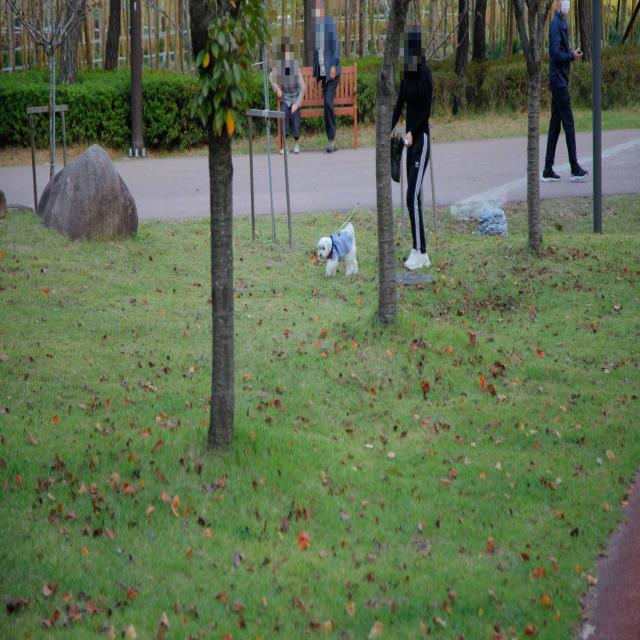Leashed_Dog: (318, 130, 417, 278)
